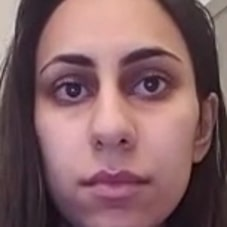awake: (40, 37, 186, 207)
